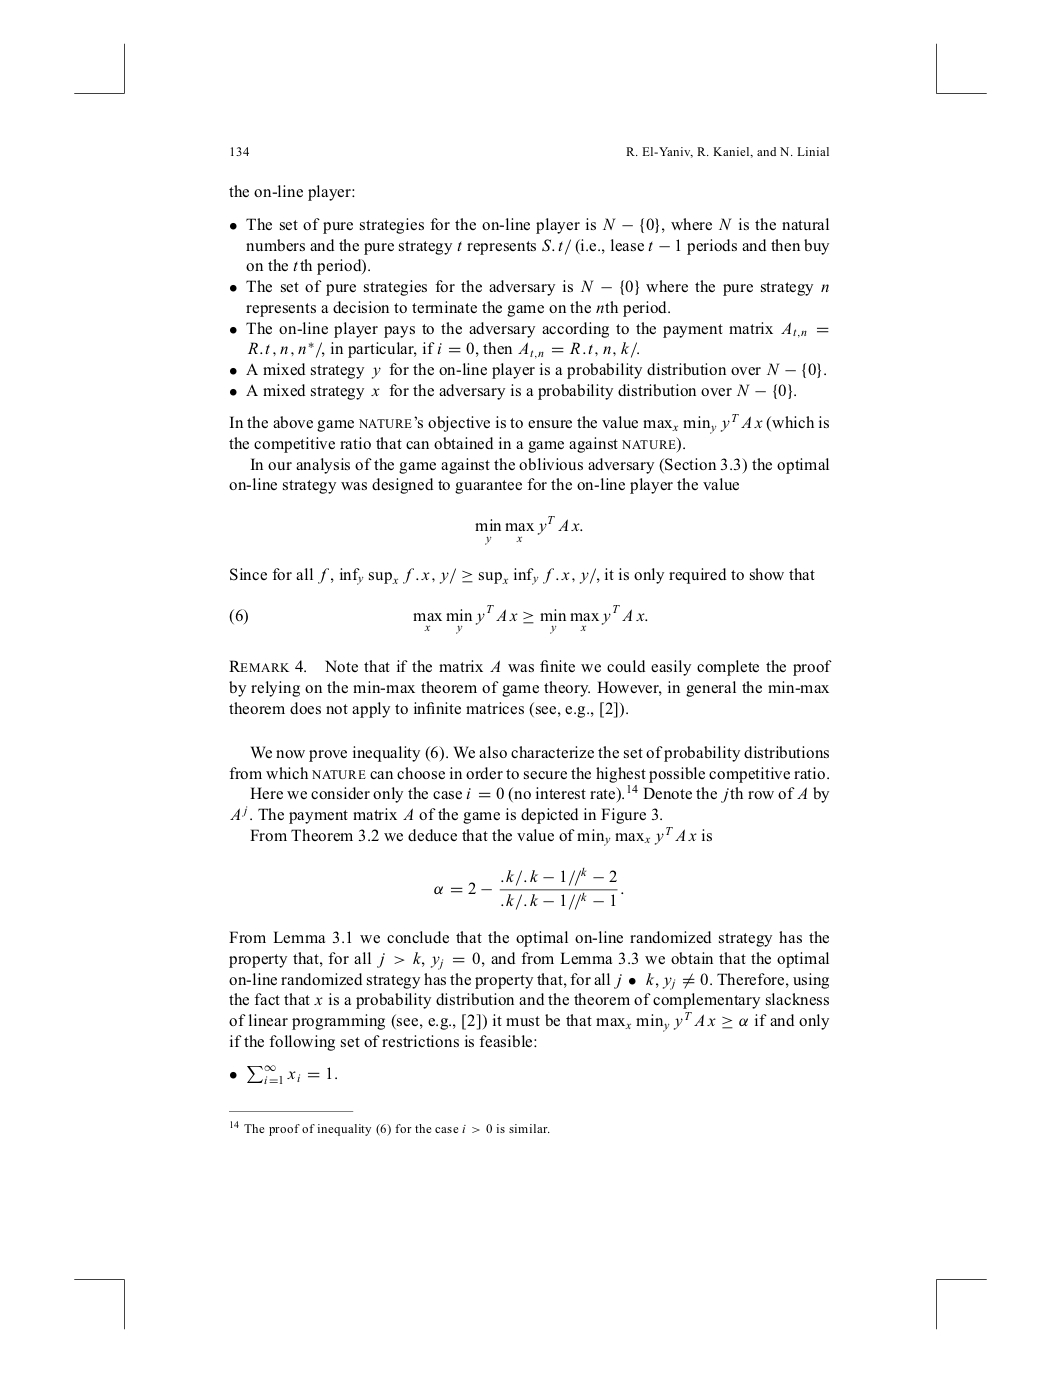formula: (228, 604, 648, 634), (434, 866, 623, 911), (475, 516, 582, 544), (230, 1064, 335, 1084)
